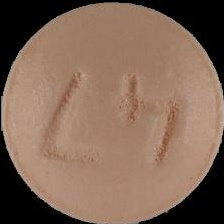24236-601: (0, 0, 224, 224)
